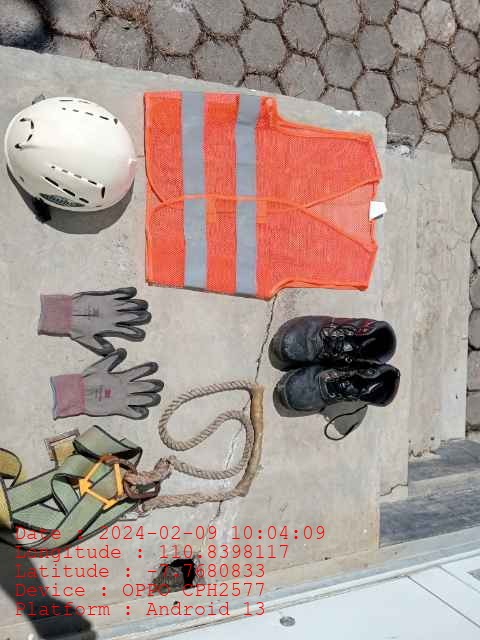HELM: (4, 96, 135, 211)
ROMPI: (141, 90, 379, 302)
SARUNG_TANGAN: (51, 347, 165, 425), (36, 286, 154, 356)
SEPATU: (269, 315, 400, 417)
